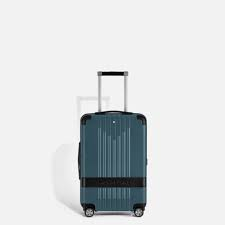suitcase: (78, 70, 149, 218)
